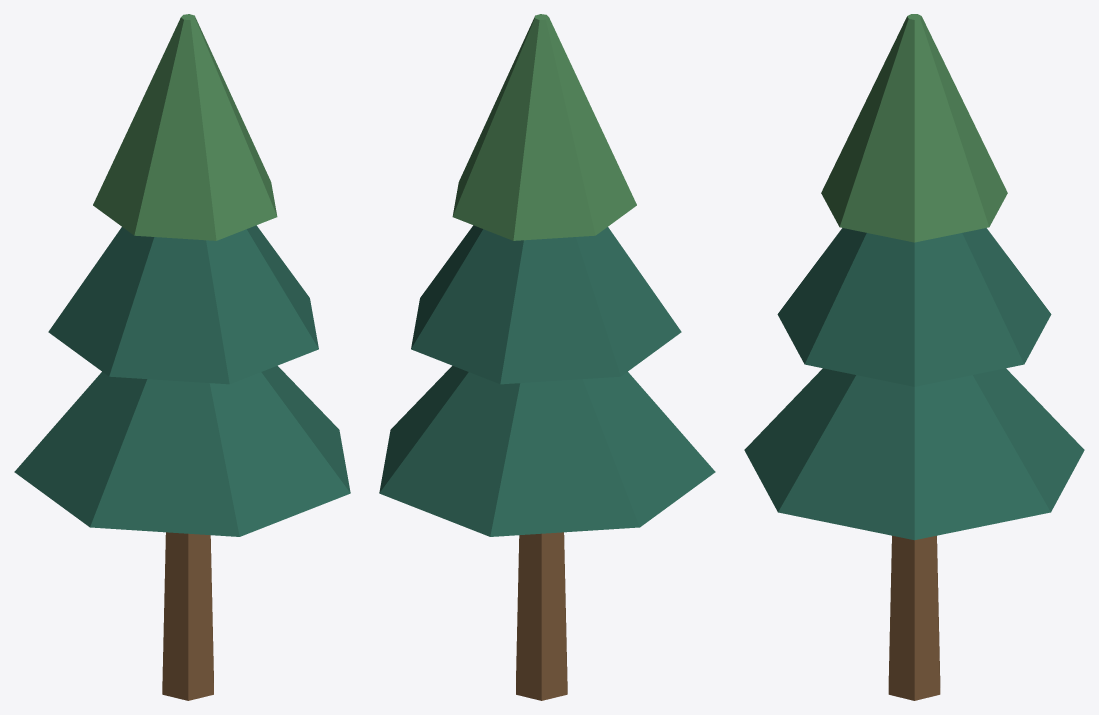
Rendered from tree-pine.glb.
3 views of the same model, side by side, from view 1: azimuth 30°, elevation 25°; view 2: azimuth 150°, elevation 25°; view 3: azimuth 270°, elevation 25° (orthographic).
Visible parts, largest first — view 1: asset_root; view 2: asset_root; view 3: asset_root.
Part boxes in pixels (bbox=[...]): asset_root: bbox=[14, 14, 350, 700]; asset_root: bbox=[379, 14, 715, 700]; asset_root: bbox=[744, 14, 1084, 700].
Size of the model in its own units: 1.56 by 3.48 by 1.6.
